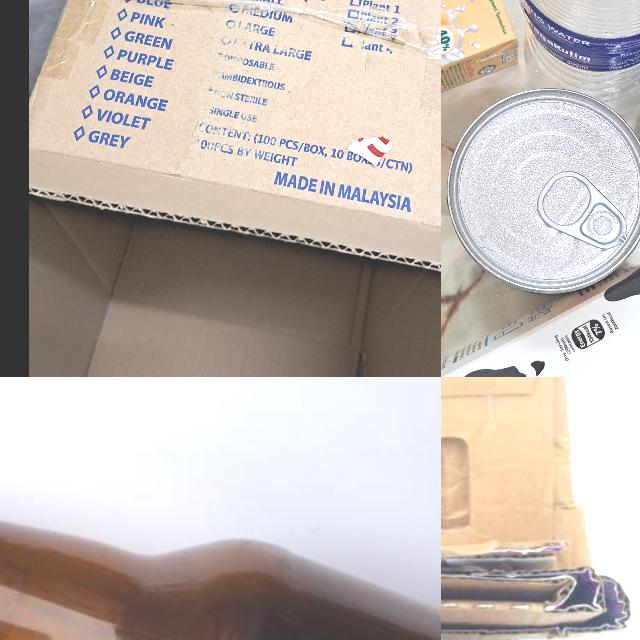aba de lata: (538, 166, 628, 254)
caixinha: (441, 266, 640, 377), (441, 0, 519, 150)
garrafa de vidro: (0, 480, 441, 640)
garrafa plástica: (512, 0, 640, 111)
lata: (447, 95, 640, 294)
papelão: (29, 0, 441, 377), (441, 377, 626, 640)
